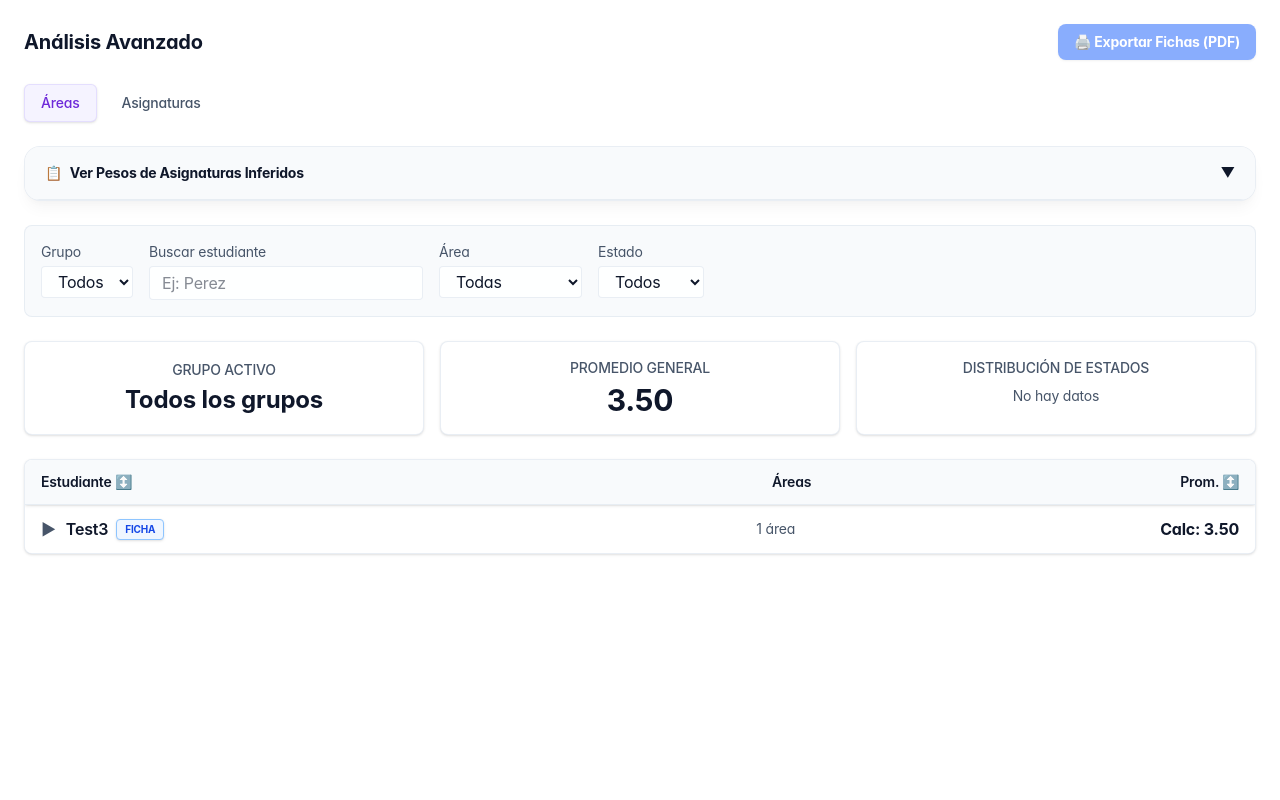
Test: AnalysisTab › exposes status badges and table content semantically without relying on CSS classes
Step 1. Click the text "Test3" → x=103, y=529, box [41,518,164,540]
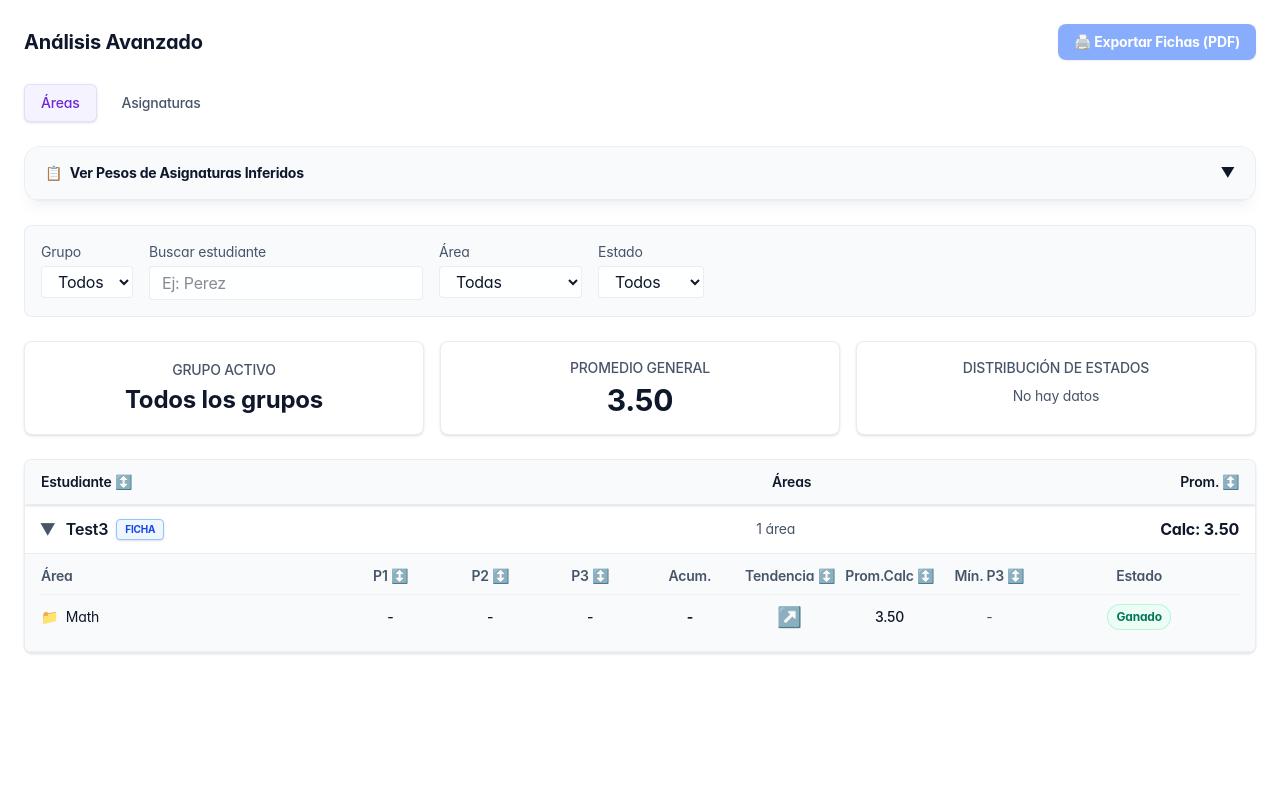
Check: the table is shown, box [41,566,1239,639]
Check: the message named "Estado: Ganado" is shown, box [1108,604,1171,630]
